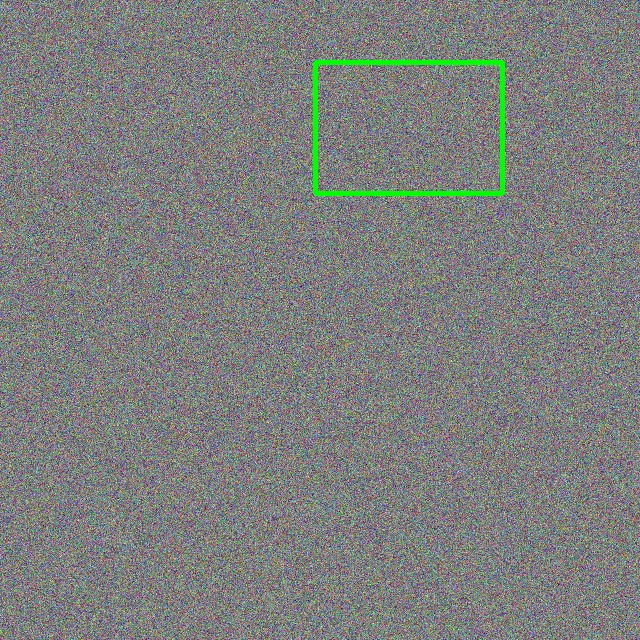base: (315, 62, 502, 193)
